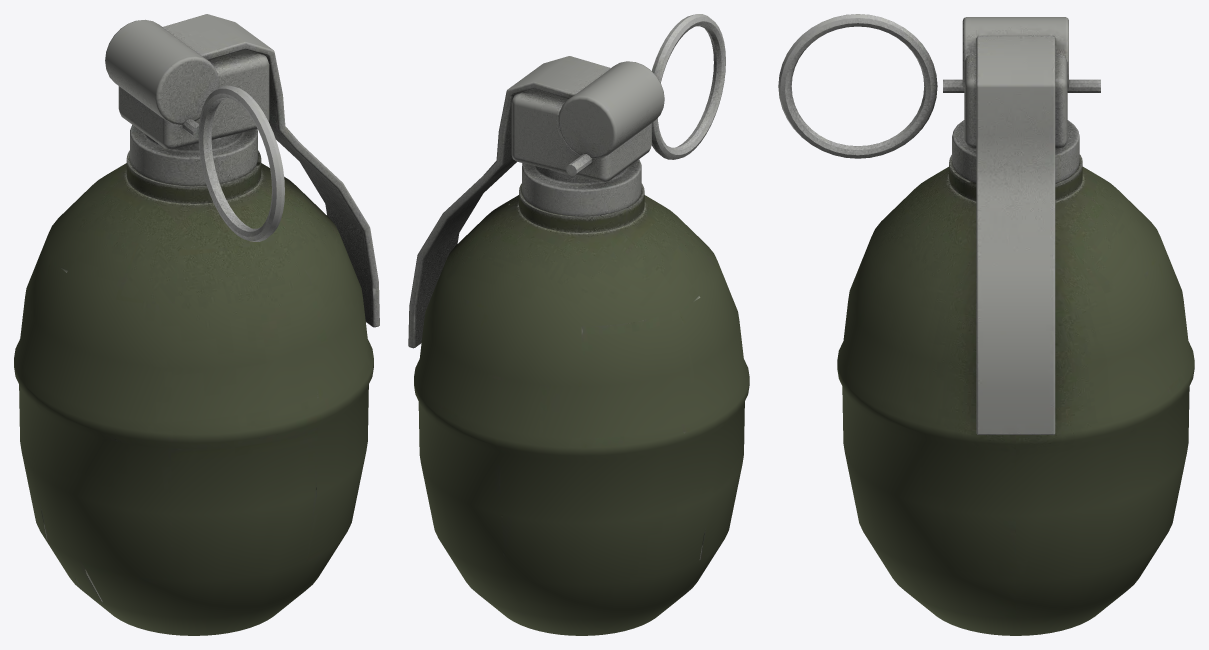
The model's file is rgd5.glb.
3 renders of one model, left to right at view 1: azimuth 30°, elevation 25°; view 2: azimuth 150°, elevation 25°; view 3: azimuth 270°, elevation 25°, orthographic. The views are drawn at different scales.
Visible parts, largest first — view 1: body, fuze, spoon, pin; view 2: body, fuze, spoon, pin; view 3: body, spoon, fuze, pin.
Boxes of the visible parts, x1,y1,x2,y2 form: body: (14,150,373,635); fuze: (105,19,269,185); spoon: (162,14,379,327); pin: (182,85,284,241); body: (414,183,749,635); fuze: (511,61,664,216); spoon: (408,56,611,348); pin: (566,14,725,176); body: (837,154,1194,635); spoon: (976,36,1055,434); fuze: (952,17,1079,183); pin: (778,14,1100,158).
Size of the model in its own units: 0.0609 by 0.1071 by 0.0685.
Materials: 1 (1 with a texture image).
